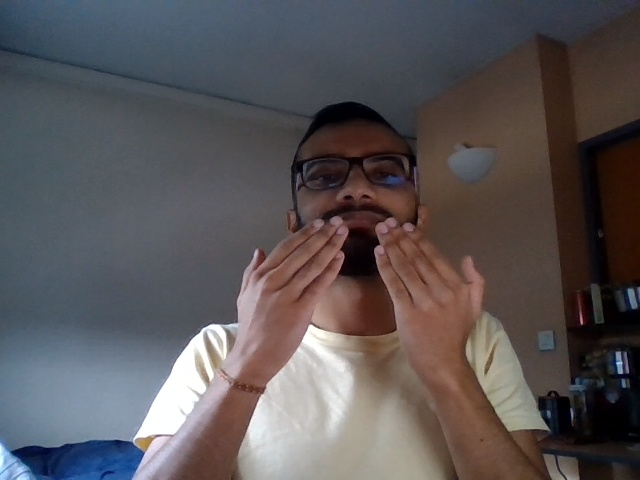Thanks: (216, 208, 490, 364)
